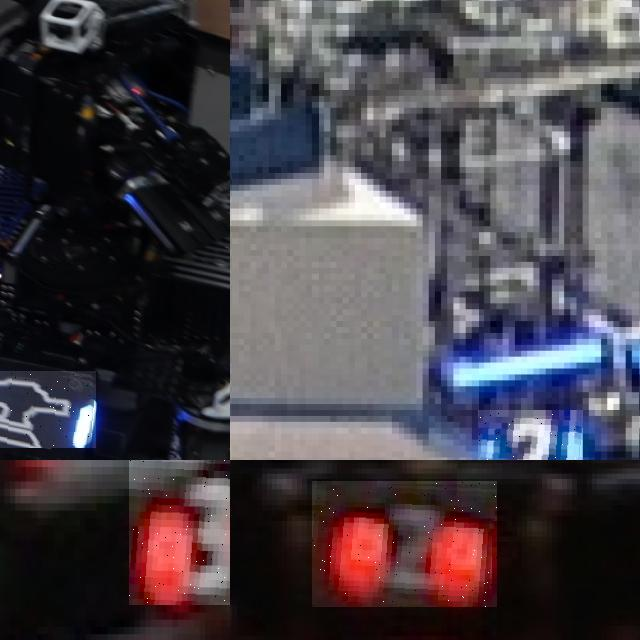B2: (478, 410, 582, 460)
Bs: (0, 370, 95, 448)
R2: (312, 482, 497, 608)
R3: (129, 460, 230, 605)
